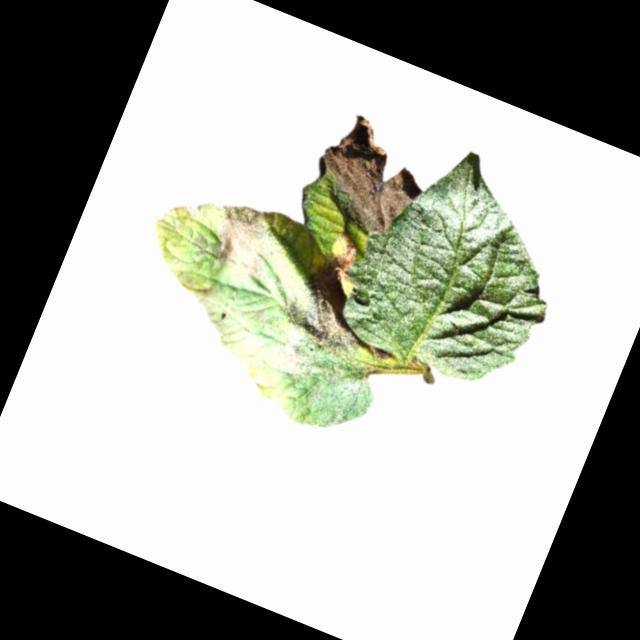Late_blight: (300, 105, 438, 247), (276, 260, 381, 362), (204, 195, 285, 278), (262, 333, 331, 390), (324, 229, 367, 282), (181, 196, 209, 226), (244, 366, 270, 390)
